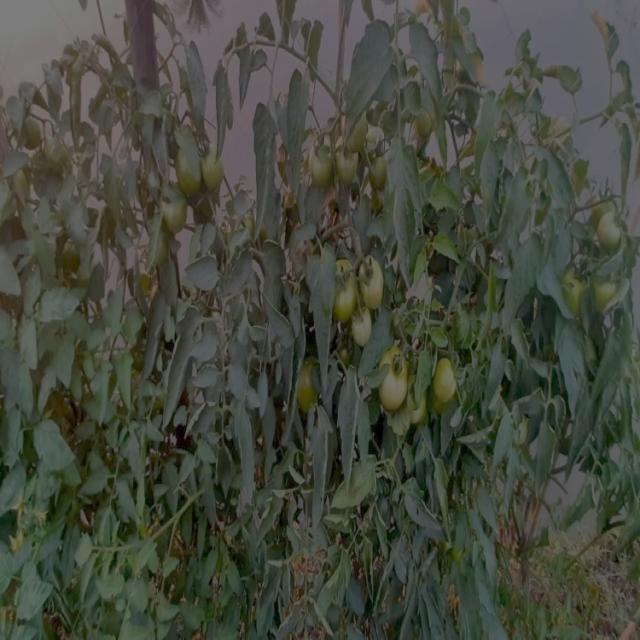tomato: (377, 352, 412, 409), (287, 359, 322, 410), (432, 350, 466, 401), (329, 255, 356, 319), (360, 253, 390, 305), (595, 208, 628, 252), (170, 143, 201, 187), (42, 143, 77, 179), (201, 148, 229, 190), (353, 307, 381, 349), (592, 273, 620, 314), (155, 193, 188, 225), (333, 146, 358, 182), (306, 146, 331, 179), (562, 269, 582, 304), (20, 119, 41, 148), (417, 104, 432, 136), (373, 152, 386, 183)
